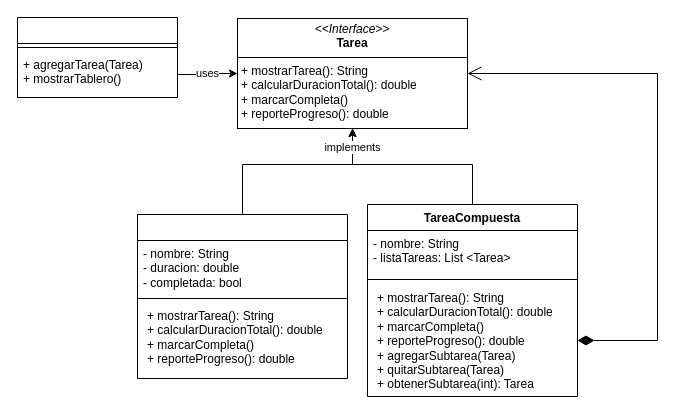
Some shapes in this 692 by 417 pixel diagram are drawn without their labels. The box of each missing label's shape, as (x1, y1, x2, y2) in pixels:
GestorDeTareas: (16, 16, 178, 98)
TareaSimple: (136, 214, 348, 378)
